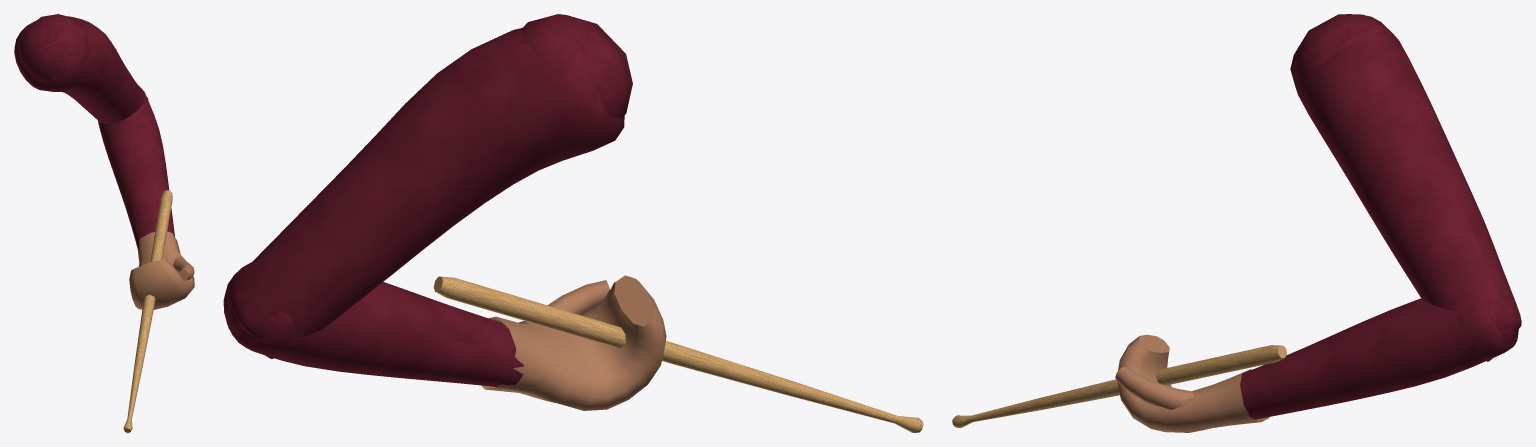
Rendered from brazoizq.obj.
3 renders of one model, left to right at view 1: azimuth 30°, elevation 25°; view 2: azimuth 150°, elevation 25°; view 3: azimuth 270°, elevation 25°, orthographic. The views are drawn at different scales.
Visible parts, largest first — view 1: tarola_AntebrazoIzq, tarola_BrazoIzq, tarola_ManoIzq, tarola_HombroIzq, tarola_BaquetaIzq; view 2: tarola_BrazoIzq, tarola_AntebrazoIzq, tarola_ManoIzq, tarola_BaquetaIzq, tarola_HombroIzq, tarola_CodoIzq; view 3: tarola_BrazoIzq, tarola_AntebrazoIzq, tarola_ManoIzq, tarola_BaquetaIzq, tarola_HombroIzq, tarola_CodoIzq.
Boxes of the visible parts, left/top/right/bottom form: tarola_AntebrazoIzq: left=98, top=85, right=174, bottom=249; tarola_BrazoIzq: left=14, top=16, right=144, bottom=123; tarola_ManoIzq: left=129, top=231, right=194, bottom=309; tarola_HombroIzq: left=19, top=14, right=91, bottom=79; tarola_BaquetaIzq: left=123, top=190, right=172, bottom=432; tarola_BrazoIzq: left=227, top=25, right=624, bottom=356; tarola_AntebrazoIzq: left=223, top=261, right=538, bottom=387; tarola_ManoIzq: left=481, top=275, right=666, bottom=410; tarola_BaquetaIzq: left=433, top=276, right=923, bottom=432; tarola_HombroIzq: left=520, top=14, right=632, bottom=118; tarola_CodoIzq: left=226, top=265, right=302, bottom=358; tarola_BrazoIzq: left=1290, top=14, right=1521, bottom=330; tarola_AntebrazoIzq: left=1240, top=295, right=1517, bottom=419; tarola_ManoIzq: left=1115, top=334, right=1269, bottom=432; tarola_BaquetaIzq: left=952, top=345, right=1286, bottom=427; tarola_HombroIzq: left=1294, top=14, right=1387, bottom=81; tarola_CodoIzq: left=1458, top=298, right=1520, bottom=361.
Size of the model in its own units: 0.2991 by 0.4396 by 0.5019.
3 materials, 3 textured.
